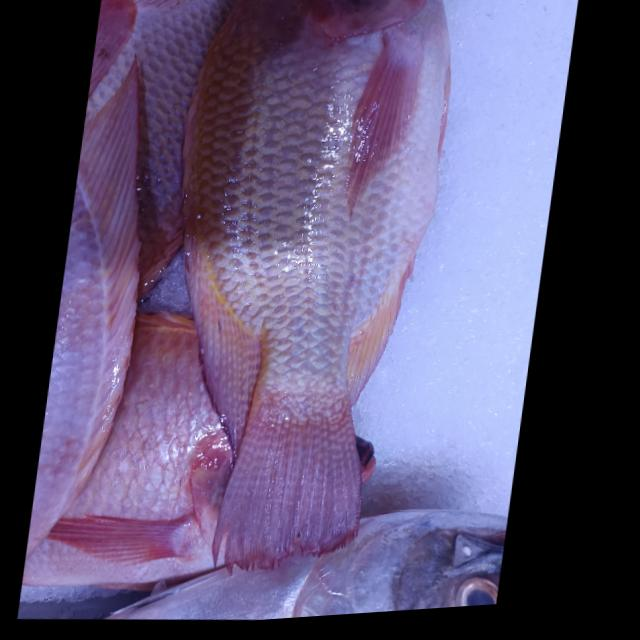Tilapia: (127, 0, 467, 591)
